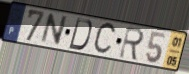5: (144, 29, 167, 64)
7: (25, 8, 47, 43)
C: (92, 21, 118, 57)
D: (67, 17, 94, 52)
N: (39, 13, 70, 47)
R: (117, 25, 146, 63)
